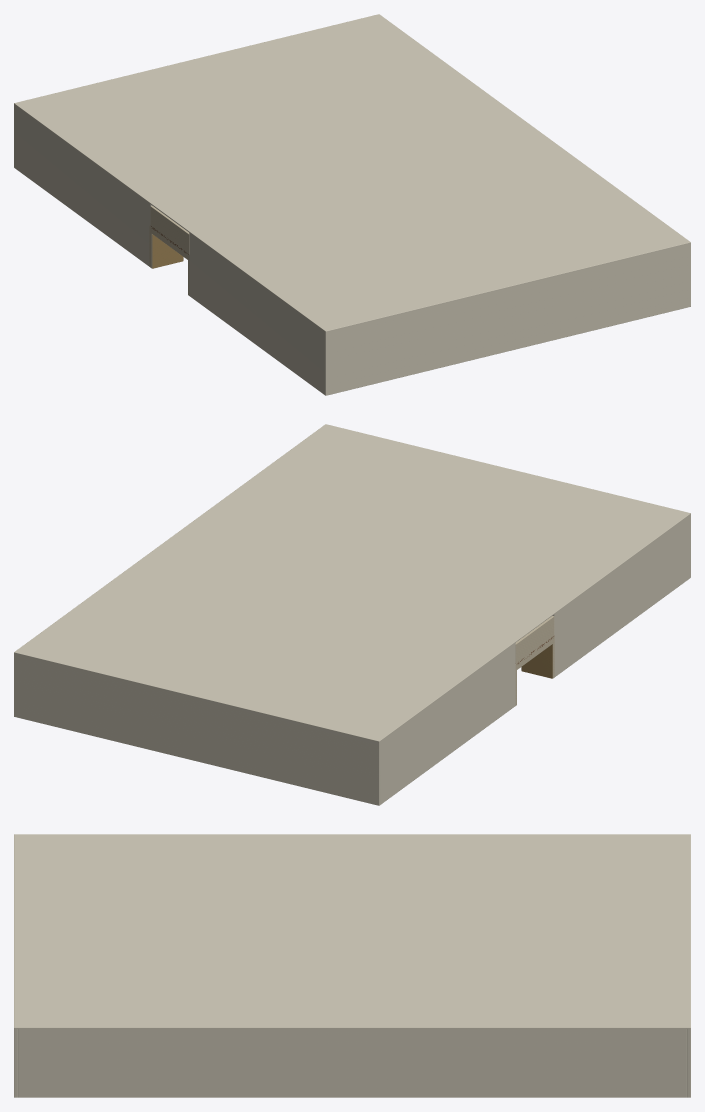
File: WP04_botanical_nursery.glb
3 views of the same model, one above another, from view 1: azimuth 30°, elevation 25°; view 2: azimuth 150°, elevation 25°; view 3: azimuth 270°, elevation 25° (orthographic). The views are drawn at different scales.
Parts seen in each view (by area): view 1: Protected_opaque_overhead_enclosure, Opaque_end_-182.2, Inward_boundary_-235, Inward_boundary_-197, Entrance_lintel, Portal_reveal_metal_-220.2; view 2: Protected_opaque_overhead_enclosure, Opaque_end_-249.8, Inward_boundary_-197, Inward_boundary_-235, Entrance_lintel, Portal_reveal_metal_-211.8; view 3: Protected_opaque_overhead_enclosure, Opaque_starboard_boundary.
Boxes of the visible parts, <box> form: Protected_opaque_overhead_enclosure: <box>14,14,690,331</box>; Opaque_end_-182.2: <box>324,243,690,395</box>; Inward_boundary_-235: <box>15,105,152,266</box>; Inward_boundary_-197: <box>189,232,324,394</box>; Entrance_lintel: <box>150,206,189,260</box>; Portal_reveal_metal_-220.2: <box>152,234,183,268</box>; Protected_opaque_overhead_enclosure: <box>14,424,690,742</box>; Opaque_end_-249.8: <box>14,653,380,805</box>; Inward_boundary_-197: <box>552,515,689,676</box>; Inward_boundary_-235: <box>381,642,515,804</box>; Entrance_lintel: <box>515,616,554,669</box>; Portal_reveal_metal_-211.8: <box>521,644,552,678</box>; Protected_opaque_overhead_enclosure: <box>14,834,690,1028</box>; Opaque_starboard_boundary: <box>18,1028,686,1097</box>.
Bounding box in the file's own units: 46 × 7.77 × 68.
37 materials, 33 textured.
